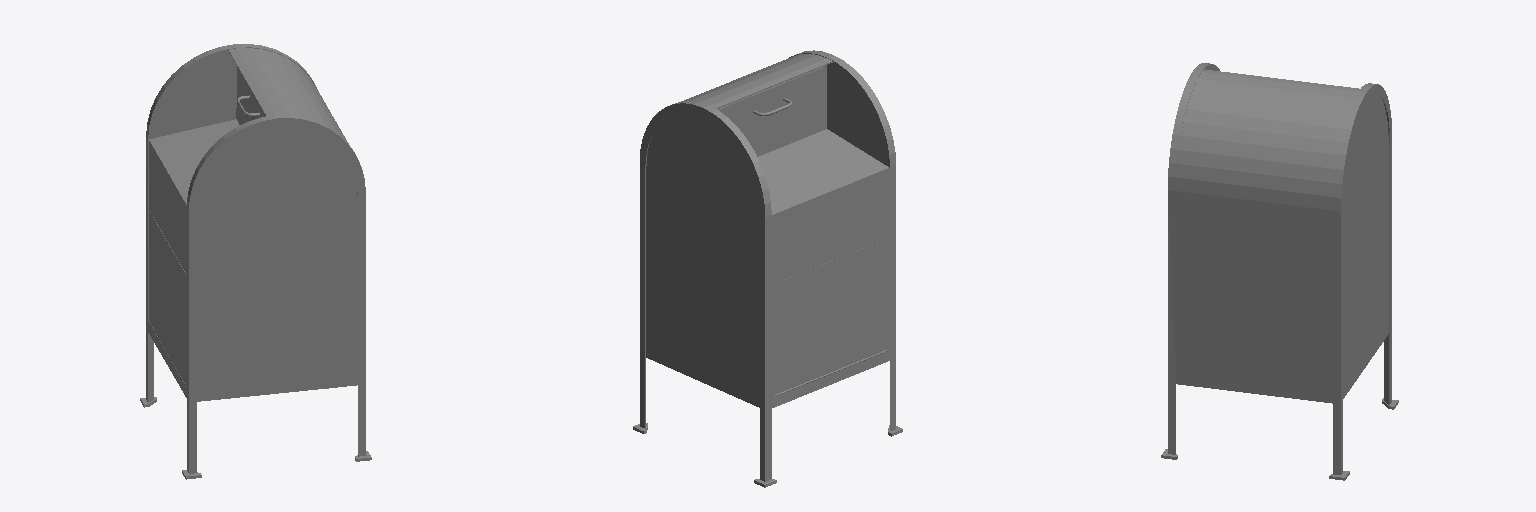
Rendered from Buzon.obj.
The picture shows the model from 3 angles: view 1: azimuth 30°, elevation 25°; view 2: azimuth 150°, elevation 25°; view 3: azimuth 270°, elevation 25°; orthographic projection.
Visible parts, largest first — view 1: PostBox; view 2: PostBox; view 3: PostBox.
Boxes of the visible parts, <box> form: PostBox: <box>140,44,371,479</box>; PostBox: <box>633,50,902,487</box>; PostBox: <box>1161,63,1398,480</box>.
Size of the model in its own units: 6.2 by 10.06 by 6.2.